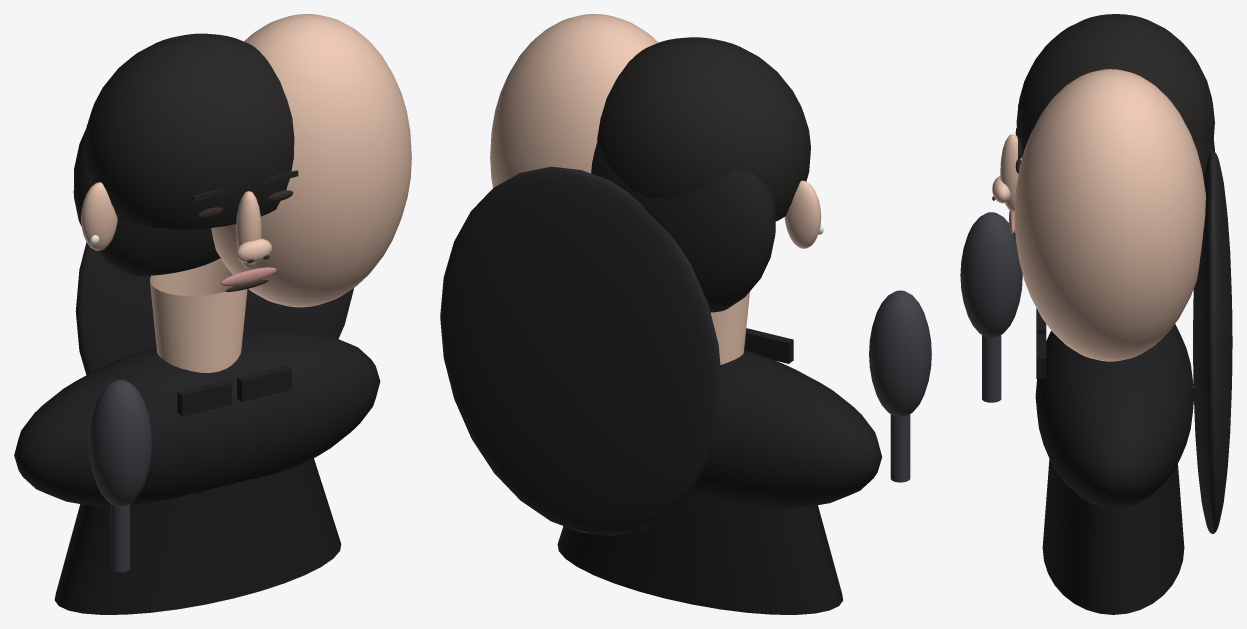
Rendered from avatar-bust.glb.
3 views of the same model, side by side, from view 1: azimuth 30°, elevation 25°; view 2: azimuth 150°, elevation 25°; view 3: azimuth 270°, elevation 25° (orthographic).
Visible parts, largest first — view 1: shoulders, head, buzz-cut cap, shirt torso, chair back, neck, microphone foam, rear hair shadow, left ear, shirt collar right, shirt collar left, microphone stem (+3 smaller); view 2: chair back, buzz-cut cap, shirt torso, shoulders, head, rear hair shadow, microphone foam, left ear, neck, microphone stem, shirt collar left; view 3: head, shoulders, shirt torso, buzz-cut cap, chair back, microphone foam, microphone stem, nose bridge, shirt collar right.
Part boxes in pixels (box(x1,y1,x2,y2)): shoulders: box(14, 328, 380, 507); head: box(211, 14, 411, 307); buzz-cut cap: box(84, 33, 294, 229); shirt torso: box(54, 458, 341, 614); chair back: box(75, 242, 353, 375); neck: box(150, 258, 247, 372); microphone foam: box(89, 379, 151, 506); rear hair shadow: box(73, 128, 220, 275); left ear: box(81, 182, 117, 250); shirt collar right: box(237, 365, 291, 401); shirt collar left: box(177, 380, 231, 416); microphone stem: box(110, 504, 130, 572); chair back: box(440, 166, 722, 535); buzz-cut cap: box(597, 37, 810, 221); shirt torso: box(557, 493, 843, 614); shoulders: box(690, 350, 881, 508); head: box(490, 14, 658, 187); rear hair shadow: box(591, 142, 775, 312); microphone foam: box(869, 290, 931, 416); left ear: box(784, 180, 821, 248); neck: box(710, 292, 749, 364); microphone stem: box(890, 414, 910, 482); shirt collar left: box(744, 328, 793, 363); head: box(1014, 69, 1205, 361); shoulders: box(1035, 324, 1193, 508); shirt torso: box(1042, 459, 1184, 614); buzz-cut cap: box(1016, 14, 1214, 158); chair back: box(1193, 151, 1232, 533); microphone foam: box(960, 212, 1022, 337); microphone stem: box(982, 335, 1001, 402); nose bridge: box(1000, 134, 1021, 211); shirt collar right: box(1036, 334, 1046, 378).
Bounding box in the file's own units: 1.57 × 2.03 × 0.96.
